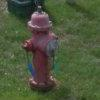Hydrant: (18, 7, 64, 89)
